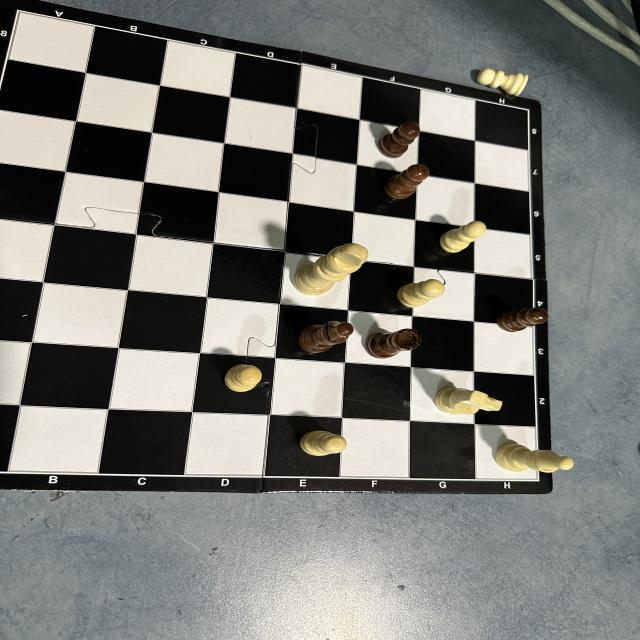Black-Bishop: (296, 319, 354, 357)
Black-Pawn: (384, 164, 429, 201), (378, 122, 421, 158), (498, 305, 548, 332)
Black-Rook: (366, 328, 423, 359)
White-Bishop: (496, 442, 574, 472)
White-King: (294, 242, 369, 294)
White-Knight: (436, 387, 502, 414)
White-Pawn: (442, 220, 485, 254), (475, 70, 530, 96), (399, 280, 444, 309), (301, 430, 346, 457), (226, 364, 262, 392)
